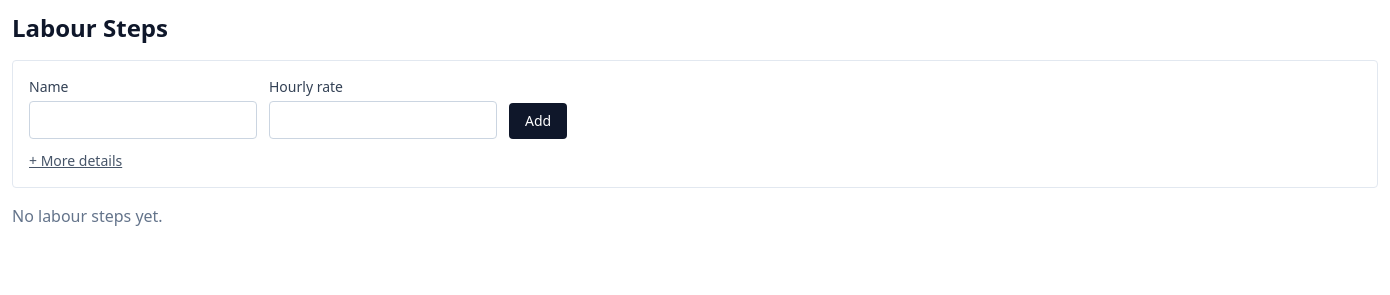
Test: LabourStepsListPage — inline add form › creates a labour step via the essentials-only form with the active checkbox defaulting to true
Expected: the text "No labour steps yet." is shown, [12, 205, 163, 227]
Type "Slicing" into the field labelled "Name" at {"x": 143, "y": 120}, box [29, 101, 257, 139]
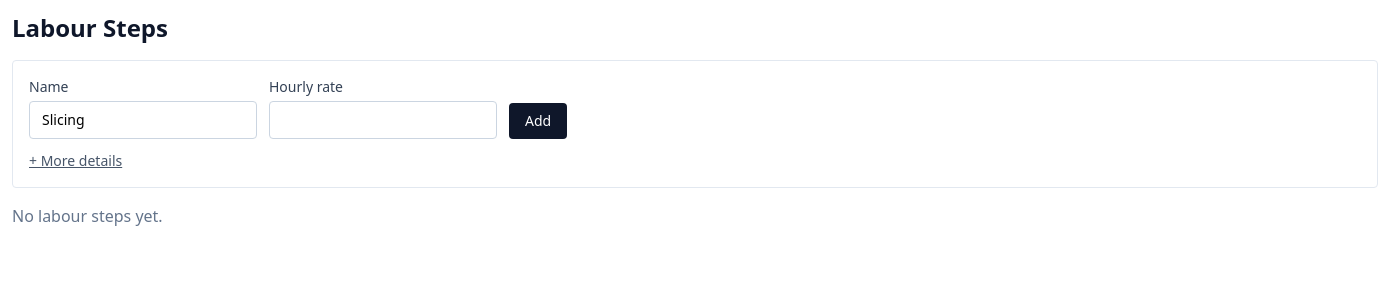
Type "150" into the number field labelled "Hourly rate" at {"x": 383, "y": 120}, box [269, 101, 497, 139]
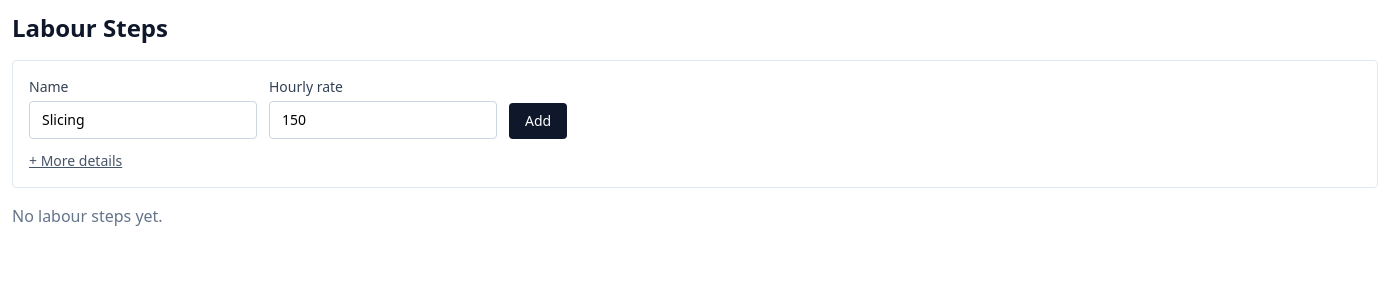
Click the button "Add" at {"x": 538, "y": 121}, box [509, 103, 567, 139]
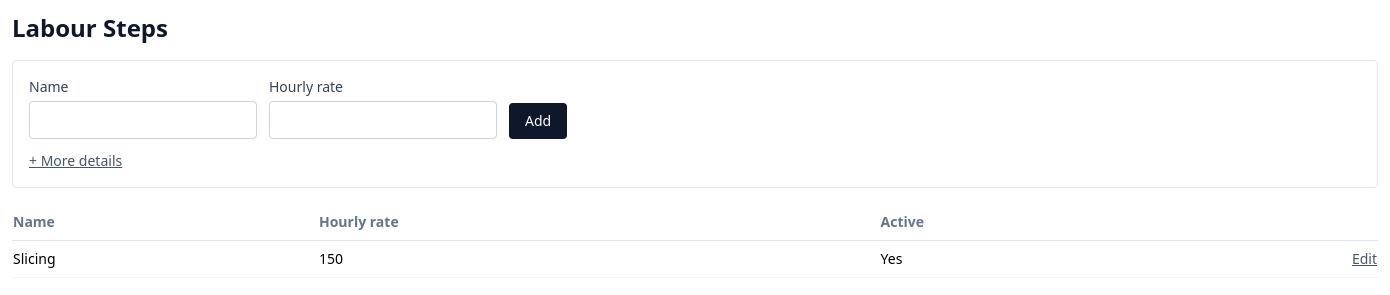
Expected: the text "Slicing" is shown, [12, 240, 318, 278]
